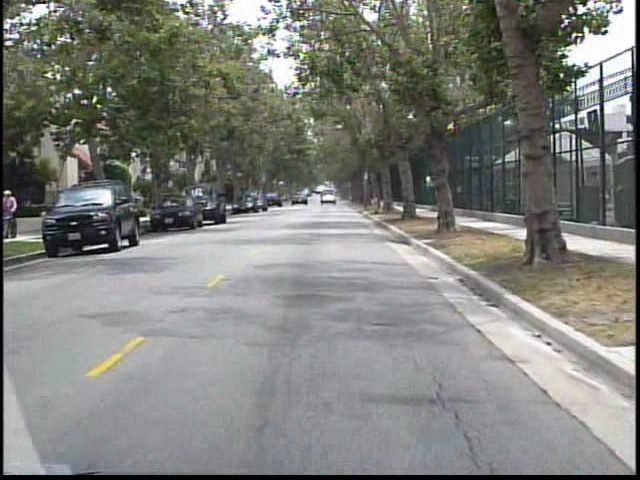person: (3, 185, 22, 240)
